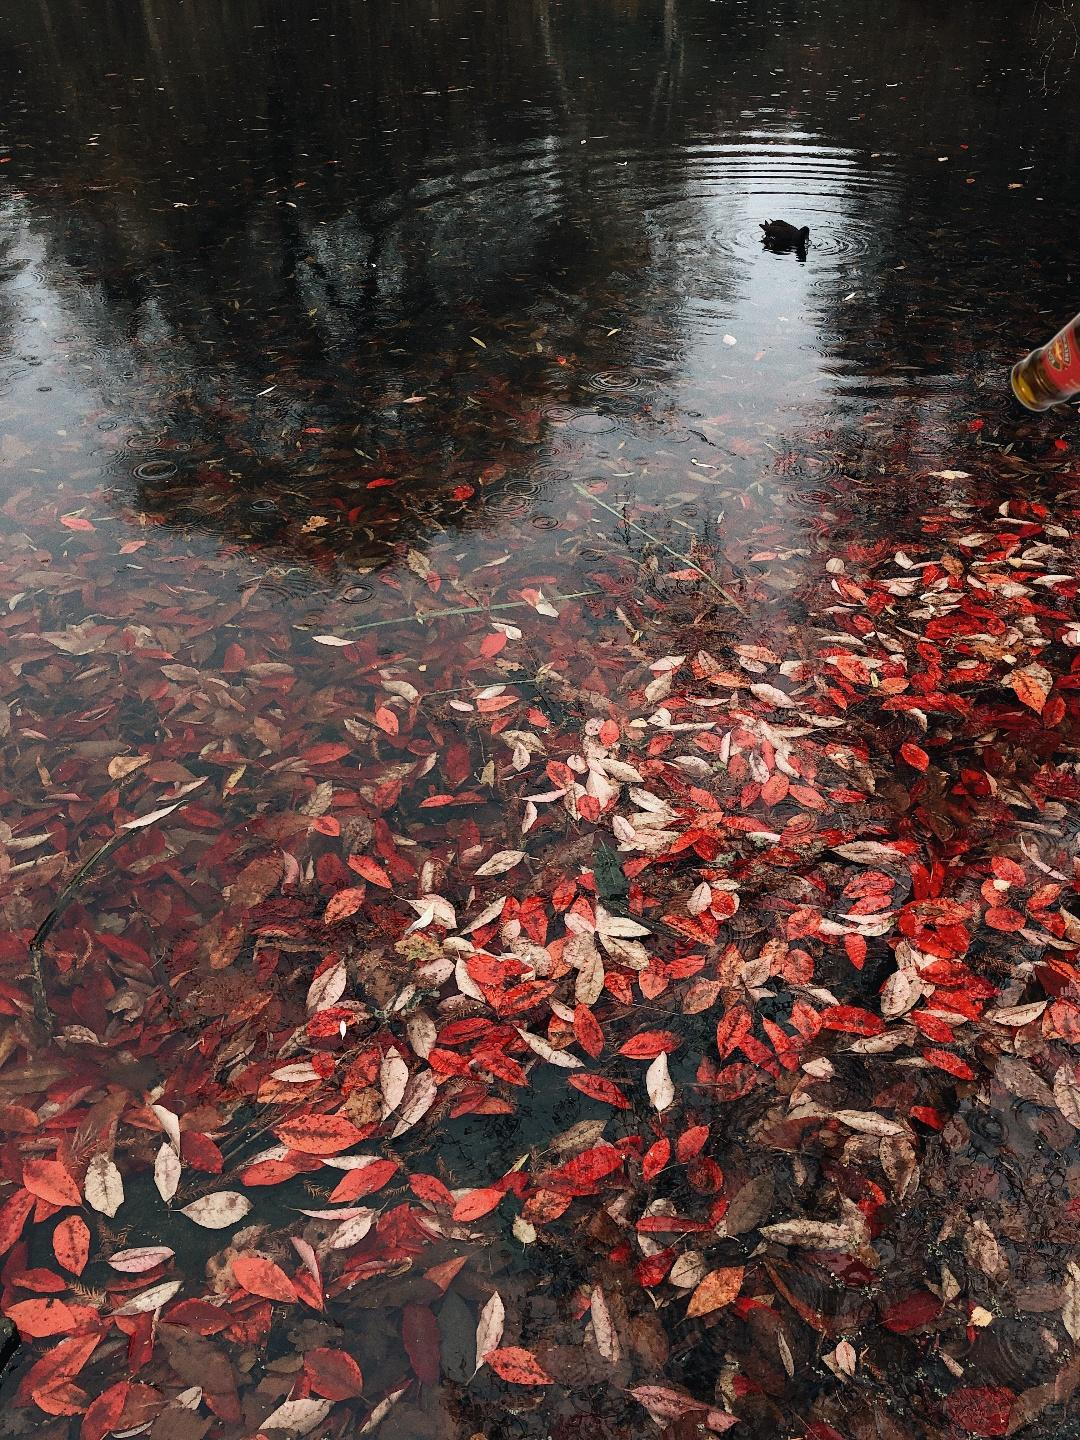glass: (1006, 119, 1080, 415)
